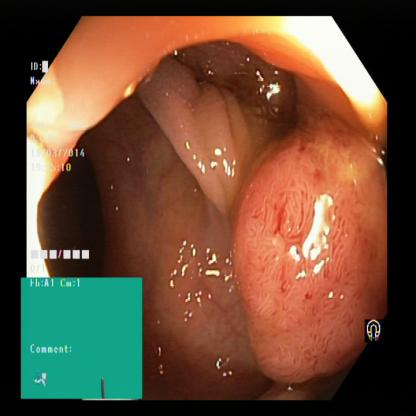Labels: (21, 275, 146, 400), (30, 56, 96, 276), (362, 314, 385, 352)
Polyps: (250, 141, 356, 376), (146, 66, 248, 203)
